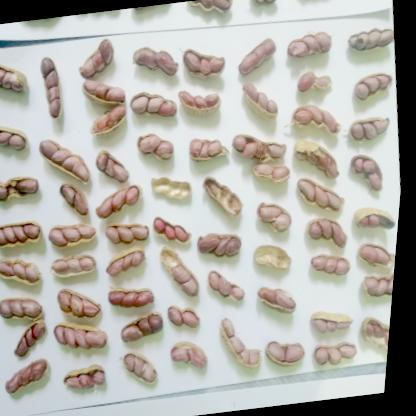Empty: (200, 173, 251, 224), (150, 170, 198, 206), (254, 240, 298, 276)
Four: (36, 132, 98, 189), (220, 312, 273, 375), (33, 51, 70, 124), (292, 137, 345, 185), (56, 318, 116, 358), (230, 129, 293, 167), (1, 53, 36, 104), (1, 218, 49, 254), (346, 25, 396, 55)
Three: (288, 100, 347, 142), (298, 175, 350, 218), (196, 228, 250, 267), (350, 149, 392, 199), (180, 42, 231, 83), (96, 185, 151, 223), (8, 357, 60, 396), (235, 37, 282, 80), (58, 283, 109, 322), (240, 80, 283, 124), (106, 279, 161, 313), (74, 41, 120, 81), (208, 268, 254, 307), (79, 76, 130, 111), (152, 211, 200, 248), (1, 254, 49, 291), (131, 90, 182, 124), (178, 84, 227, 119), (309, 217, 355, 254), (362, 312, 396, 362), (103, 217, 156, 249), (188, 132, 236, 167), (125, 349, 167, 389), (65, 364, 114, 398), (94, 147, 135, 187), (123, 310, 171, 344), (1, 293, 50, 326), (286, 29, 336, 61), (15, 322, 57, 360), (50, 222, 103, 252), (311, 250, 359, 282), (107, 246, 152, 280), (348, 114, 395, 146), (53, 252, 103, 281), (1, 117, 36, 158), (317, 340, 366, 369), (352, 72, 397, 103), (312, 307, 359, 336), (364, 269, 399, 303)
Two: (157, 243, 210, 304), (129, 40, 185, 85), (257, 279, 304, 321), (172, 337, 217, 375), (1, 171, 47, 207), (355, 203, 402, 236), (257, 200, 300, 236), (136, 131, 180, 166), (271, 337, 315, 371), (87, 105, 130, 139), (59, 181, 96, 220), (361, 240, 401, 273), (253, 160, 296, 187), (293, 69, 336, 96), (170, 304, 208, 334)
